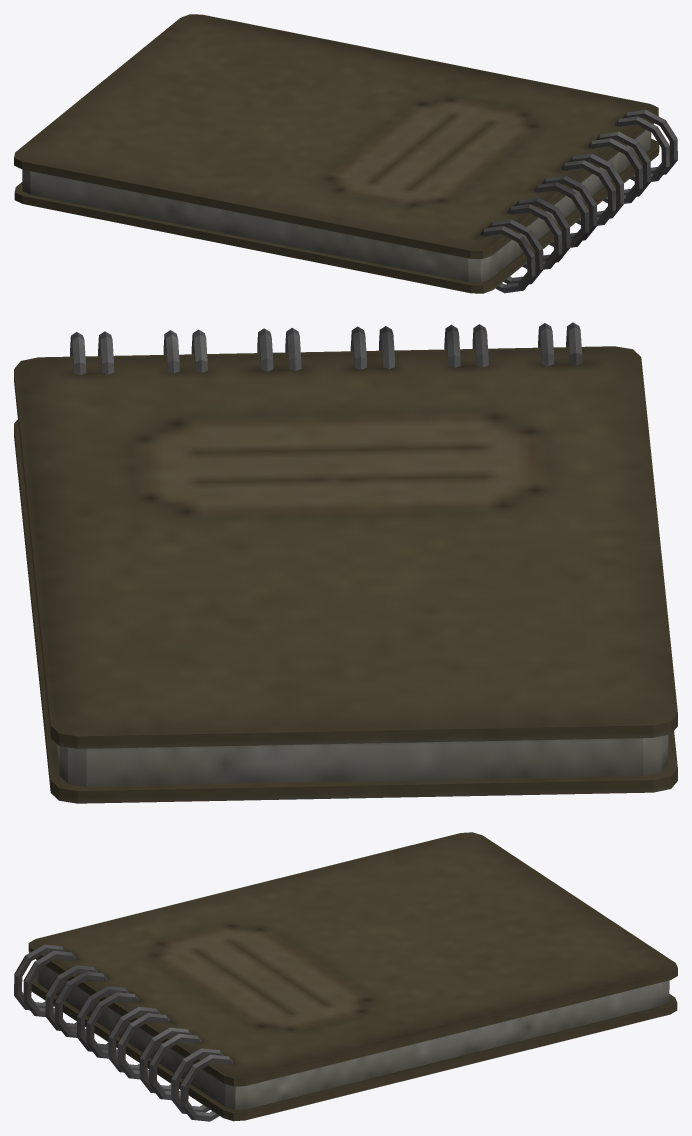
The picture shows the model from 3 angles, top to bottom: view 1: azimuth 30°, elevation 25°; view 2: azimuth 150°, elevation 25°; view 3: azimuth 270°, elevation 25°; orthographic projection. The views are drawn at different scales.
Parts seen in each view (by area): view 1: notebook_1; view 2: notebook_1; view 3: notebook_1.
Part boxes in pixels (bbox=[...]): notebook_1: bbox=[14, 14, 677, 293]; notebook_1: bbox=[14, 322, 677, 803]; notebook_1: bbox=[14, 832, 677, 1121].
Bounding box in the file's own units: 0.2285 × 0.0278 × 0.2506.
2 materials, 2 textured.
